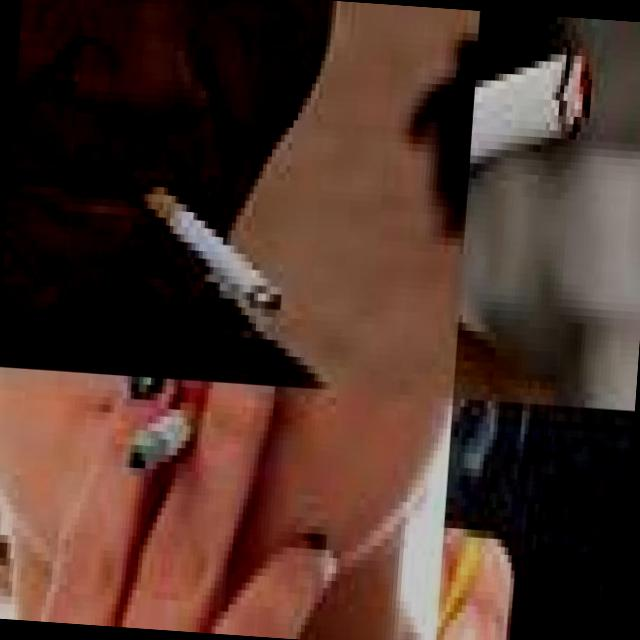smoke: (462, 33, 598, 277), (122, 176, 290, 318), (115, 391, 198, 472), (435, 526, 486, 640)
